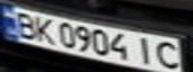0: (54, 20, 78, 48), (90, 27, 112, 56)
4: (109, 30, 133, 62)
9: (72, 24, 93, 53)
B: (9, 9, 42, 38)
C: (151, 38, 187, 71)
I: (133, 35, 160, 66)
K: (30, 15, 57, 44)
